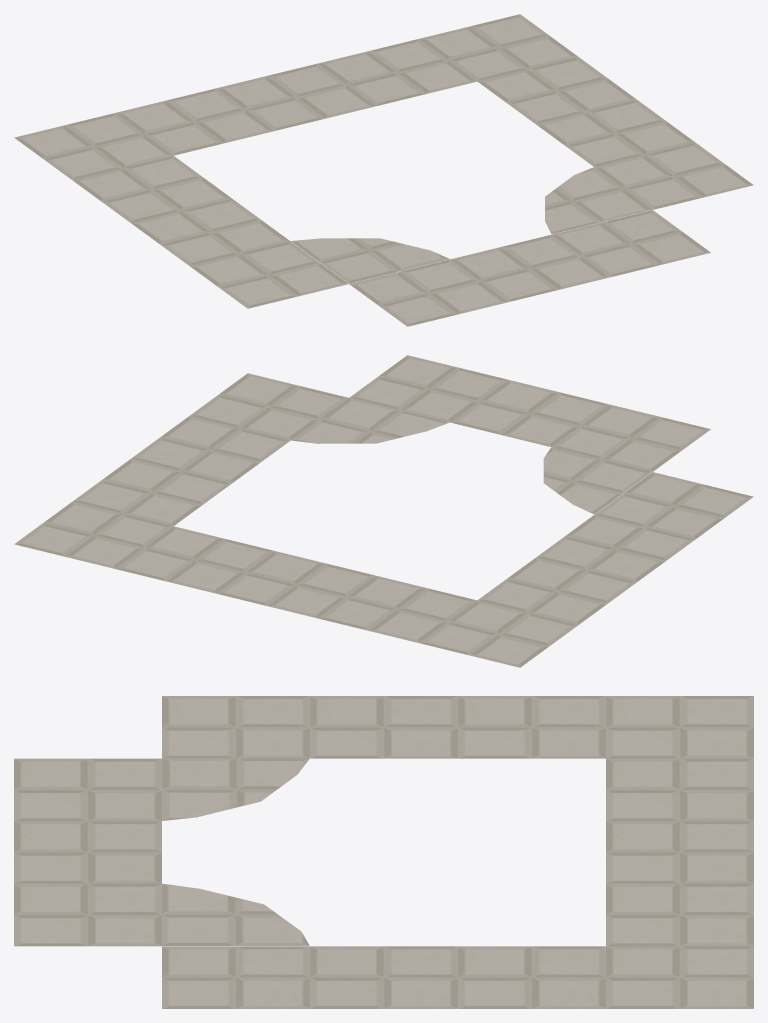
File: Homeworld_Interior_Fd_Room_S_Floor_01_Vo.fbx
3 renders of one model, top to bottom at view 1: azimuth 30°, elevation 25°; view 2: azimuth 150°, elevation 25°; view 3: azimuth 270°, elevation 25°, orthographic. The views are drawn at different scales.
Parts seen in each view (by area): view 1: Homeworld_Interior_Fd_Room_Floor_01_Vo (×14), Homeworld_Interior_Fd_Room_Floor_02_L_Vo, Homeworld_Interior_Fd_Room_Floor_02_R_Vo; view 2: Homeworld_Interior_Fd_Room_Floor_01_Vo (×14), Homeworld_Interior_Fd_Room_Floor_02_R_Vo, Homeworld_Interior_Fd_Room_Floor_02_L_Vo; view 3: Homeworld_Interior_Fd_Room_Floor_01_Vo (×14), Homeworld_Interior_Fd_Room_Floor_02_L_Vo, Homeworld_Interior_Fd_Room_Floor_02_R_Vo.
Boxes of the visible parts, x1=… form: Homeworld_Interior_Fd_Room_Floor_01_Vo (×14): x1=14, y1=14, x2=753, y2=326; Homeworld_Interior_Fd_Room_Floor_02_L_Vo: x1=291, y1=238, x2=449, y2=283; Homeworld_Interior_Fd_Room_Floor_02_R_Vo: x1=545, y1=167, x2=652, y2=234; Homeworld_Interior_Fd_Room_Floor_01_Vo (×14): x1=14, y1=355, x2=753, y2=667; Homeworld_Interior_Fd_Room_Floor_02_R_Vo: x1=291, y1=398, x2=449, y2=443; Homeworld_Interior_Fd_Room_Floor_02_L_Vo: x1=543, y1=447, x2=652, y2=514; Homeworld_Interior_Fd_Room_Floor_01_Vo (×14): x1=14, y1=696, x2=753, y2=1008; Homeworld_Interior_Fd_Room_Floor_02_L_Vo: x1=162, y1=758, x2=309, y2=820; Homeworld_Interior_Fd_Room_Floor_02_R_Vo: x1=162, y1=883, x2=309, y2=945.
Bounding box in the file's own units: 25 × 0.009 × 25.
